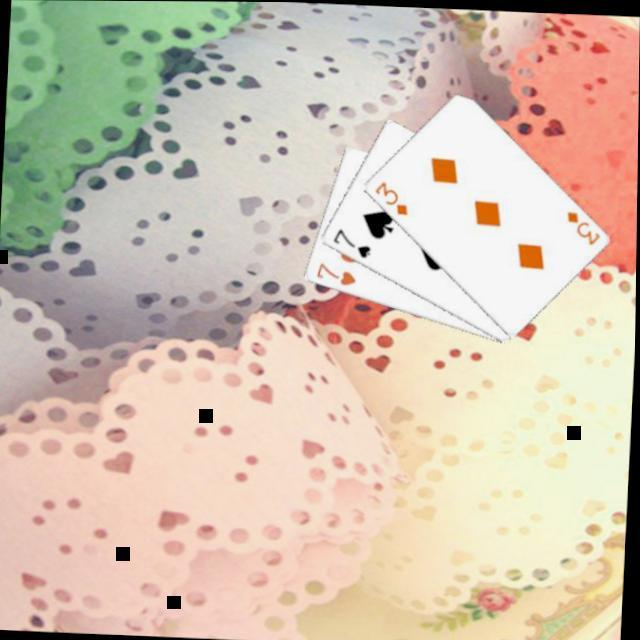3D: (372, 176, 414, 216), (564, 205, 606, 245)
7H: (315, 256, 362, 286)
7S: (331, 222, 376, 258)
